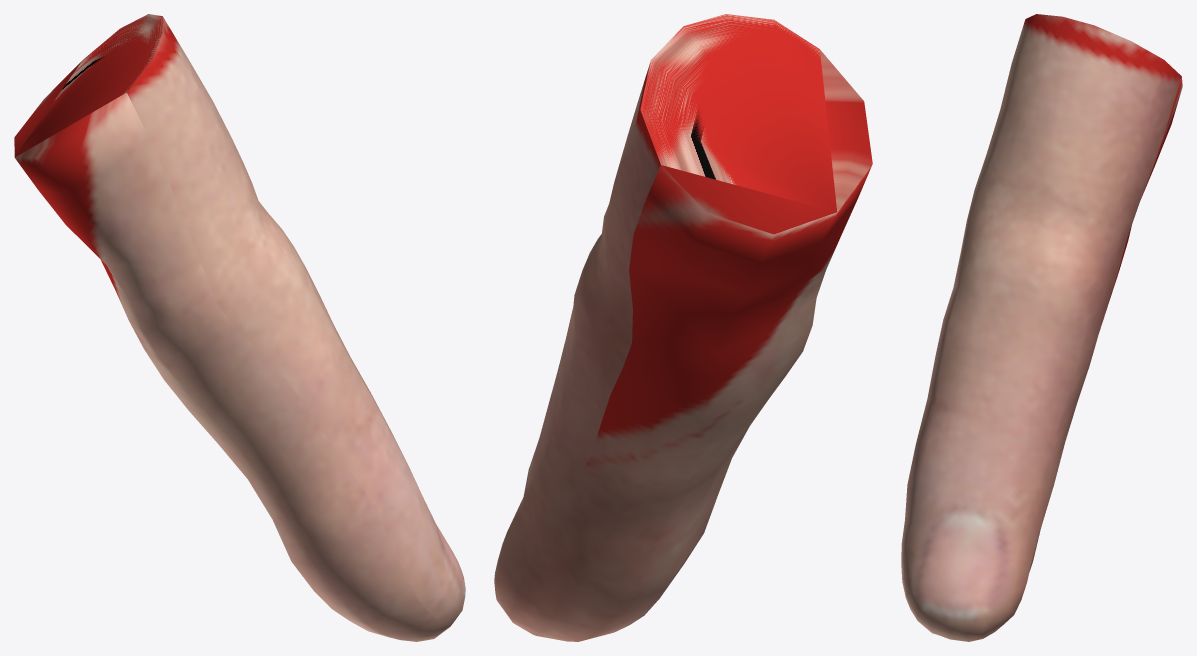
File: severed_finger1.fbx
3 views of the same model, side by side, from view 1: azimuth 30°, elevation 25°; view 2: azimuth 150°, elevation 25°; view 3: azimuth 270°, elevation 25° (orthographic). The views are drawn at different scales.
Visible parts, largest first — view 1: body_Material13462_0.002; view 2: body_Material13462_0.002; view 3: body_Material13462_0.002.
Part boxes in pixels (x1,y1,x2,y2): body_Material13462_0.002: (14,14,465,641); body_Material13462_0.002: (494,14,872,641); body_Material13462_0.002: (901,14,1182,641).
Bounding box in the file's own units: 385 × 618 × 294.
